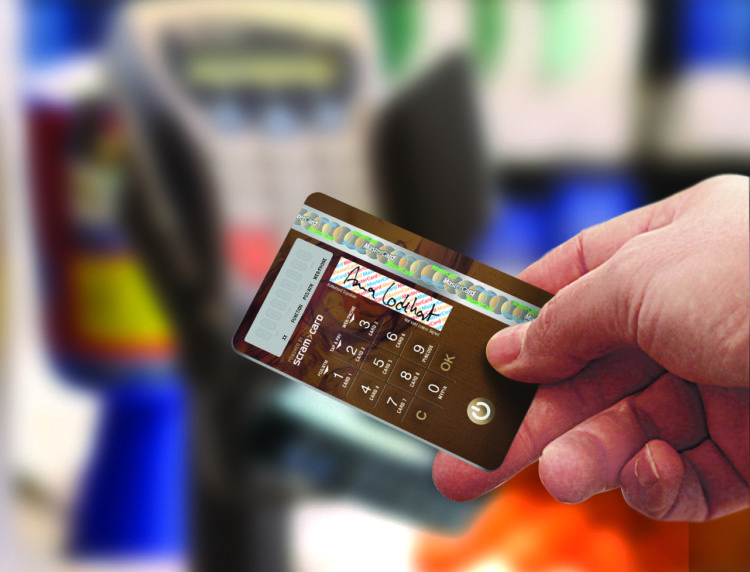tarjeta: (229, 189, 562, 474)
